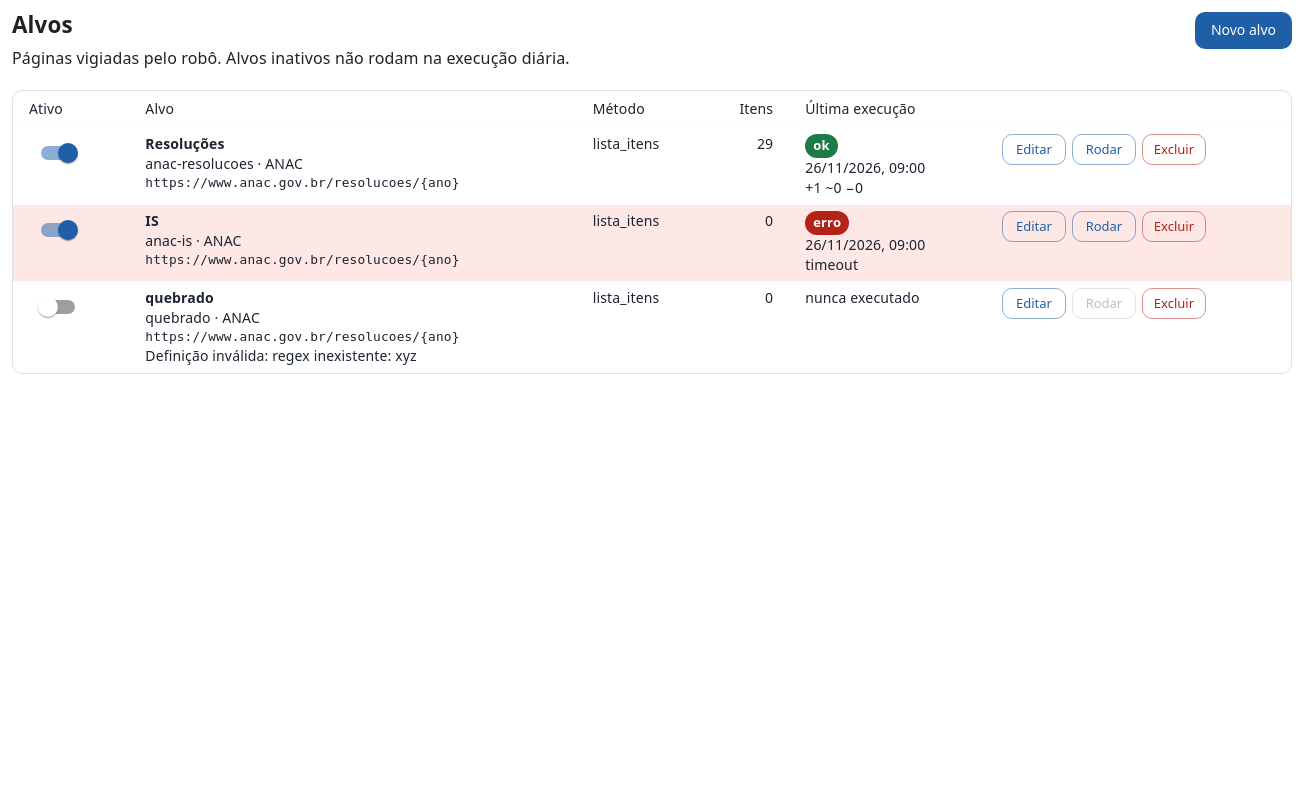
Test: AlvosPage › ativar alvo inválido mostra o erro do servidor
The image size is (1304, 812).
What coordinates should you click on to do the following:
click the switch named "Ativar quebrado"
I would click on:
 (48, 307)
Its box is x1=38 y1=297 x2=58 y2=317.
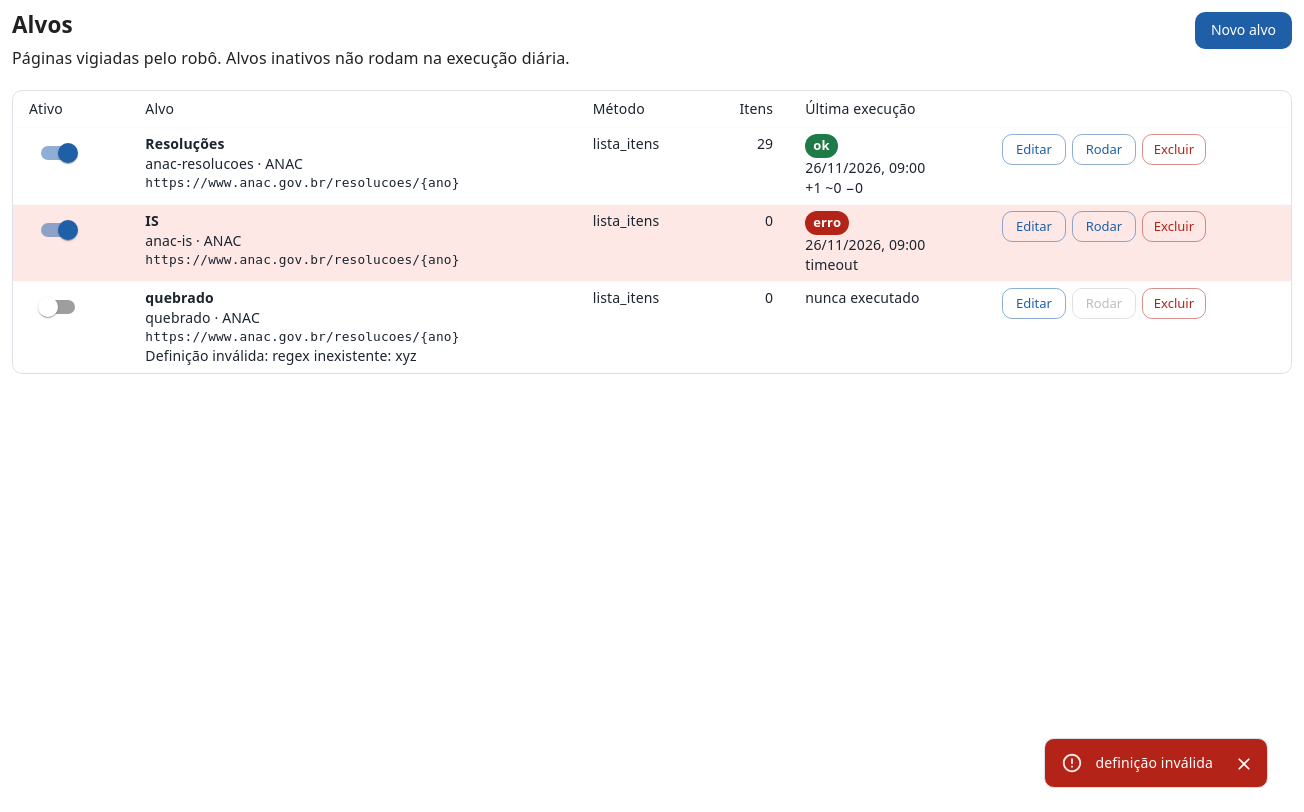
Now the text "definição inválida" is shown, box x1=1096 y1=753 x2=1213 y2=772
